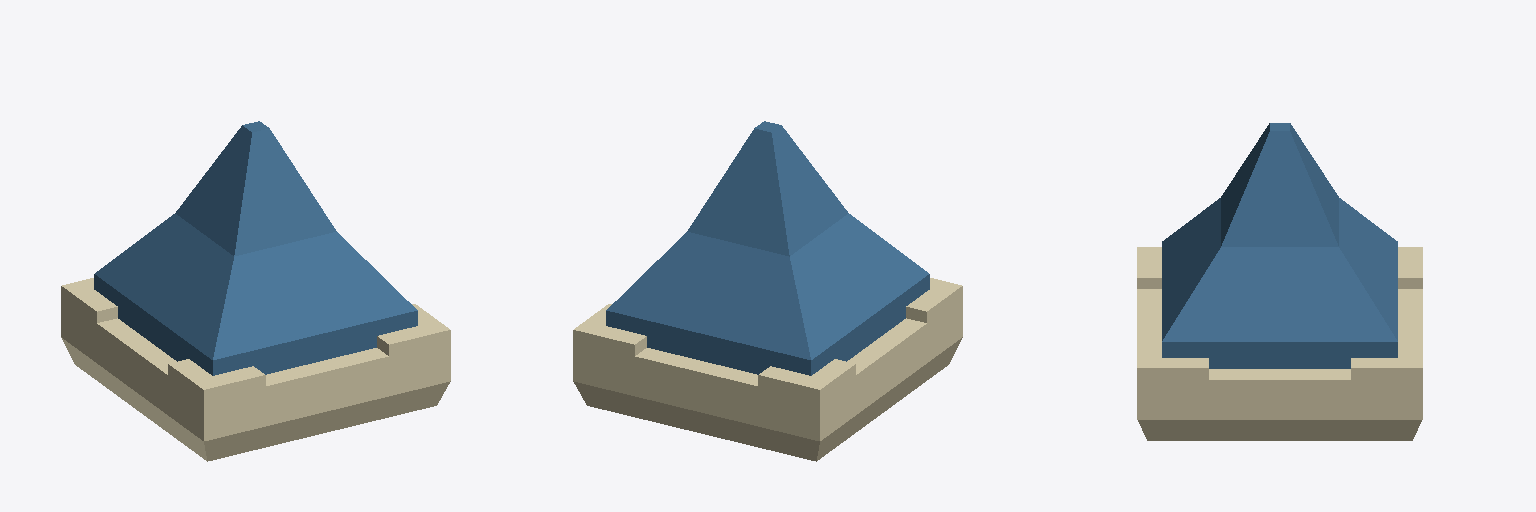
Rendered from towerSquareTopRoof.obj.
The picture shows the model from 3 angles: view 1: azimuth 30°, elevation 25°; view 2: azimuth 150°, elevation 25°; view 3: azimuth 270°, elevation 25°; orthographic projection.
Visible parts, largest first — view 1: towerSquareTopRoof; view 2: towerSquareTopRoof; view 3: towerSquareTopRoof.
Boxes of the visible parts, x1=… form: towerSquareTopRoof: x1=61, y1=121, x2=450, y2=461; towerSquareTopRoof: x1=573, y1=121, x2=962, y2=461; towerSquareTopRoof: x1=1137, y1=123, x2=1422, y2=440.
Size of the model in its own units: 10 by 10 by 10.